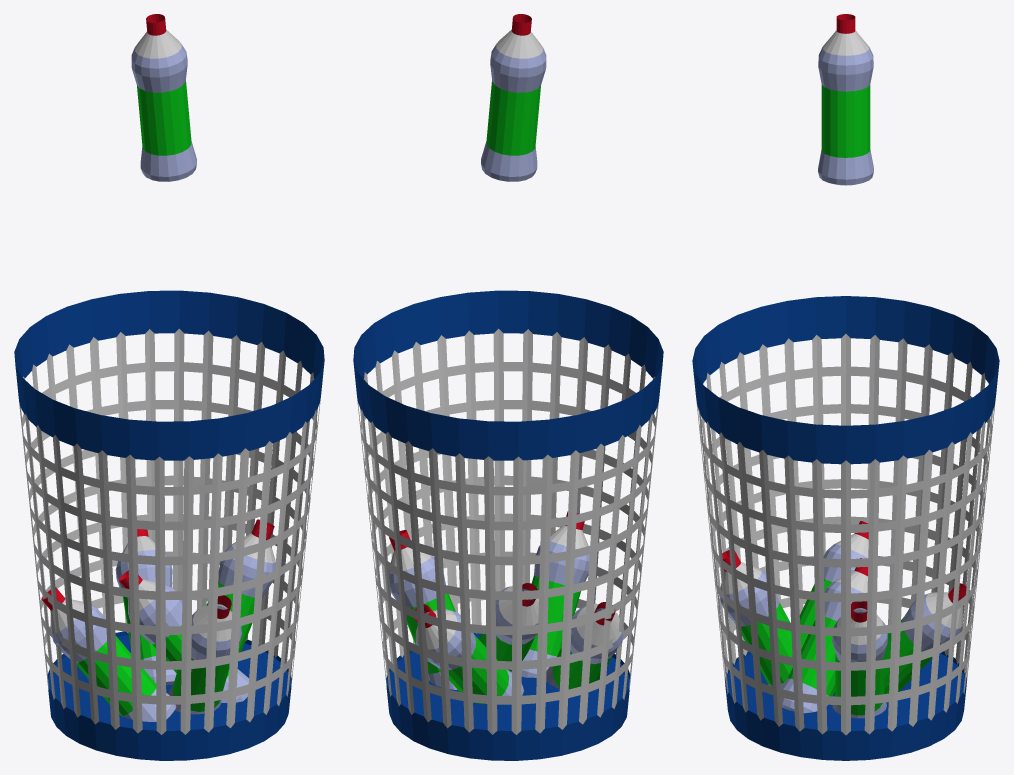
Rendered from DustbinWithCan_000010.obj.
3 renders of one model, left to right at view 1: azimuth 30°, elevation 25°; view 2: azimuth 150°, elevation 25°; view 3: azimuth 270°, elevation 25°, orthographic.
Visible parts, largest first — view 1: Cylinder, Plane.006, Plane.005, Plane.001, Plane.004, Plane.003, Plane.002; view 2: Cylinder, Plane.006, Plane.001, Plane.002, Plane.005, Plane.003, Plane.004; view 3: Cylinder, Plane.006, Plane.001, Plane.004, Plane.003, Plane.002, Plane.005.
Boxes of the visible parts, <box> form: Cylinder: <box>14,290,324,760</box>; Plane.006: <box>131,14,196,181</box>; Plane.005: <box>41,587,176,721</box>; Plane.001: <box>168,595,241,714</box>; Plane.004: <box>118,570,248,702</box>; Plane.003: <box>206,519,275,652</box>; Plane.002: <box>115,529,176,685</box>; Cylinder: <box>353,290,663,760</box>; Plane.006: <box>481,14,546,181</box>; Plane.001: <box>511,511,589,677</box>; Plane.002: <box>413,604,524,704</box>; Plane.005: <box>546,602,624,689</box>; Plane.003: <box>388,530,457,689</box>; Plane.004: <box>479,583,538,671</box>; Cylinder: <box>692,296,999,760</box>; Plane.006: <box>818,14,873,185</box>; Plane.001: <box>720,550,802,687</box>; Plane.004: <box>781,558,867,713</box>; Plane.003: <box>832,601,887,718</box>; Plane.002: <box>884,583,969,693</box>; Plane.005: <box>799,521,868,645</box>.
Bounding box in the file's own units: 2.6 × 6.43 × 2.6.
